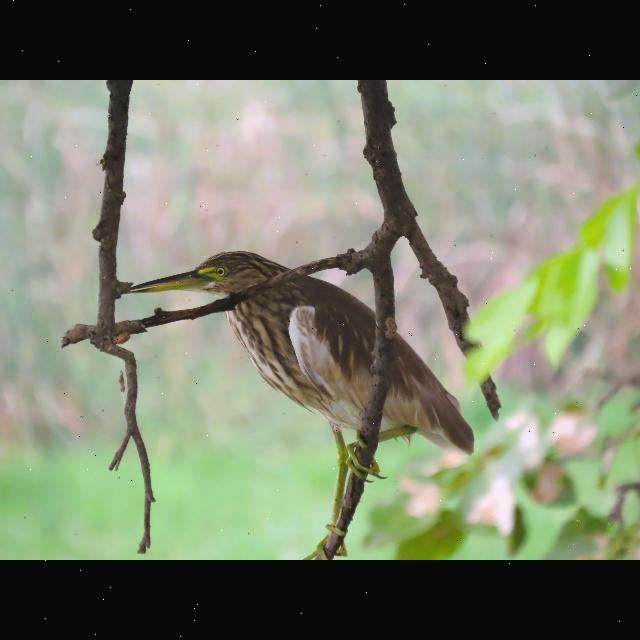heron: (128, 246, 494, 487)
